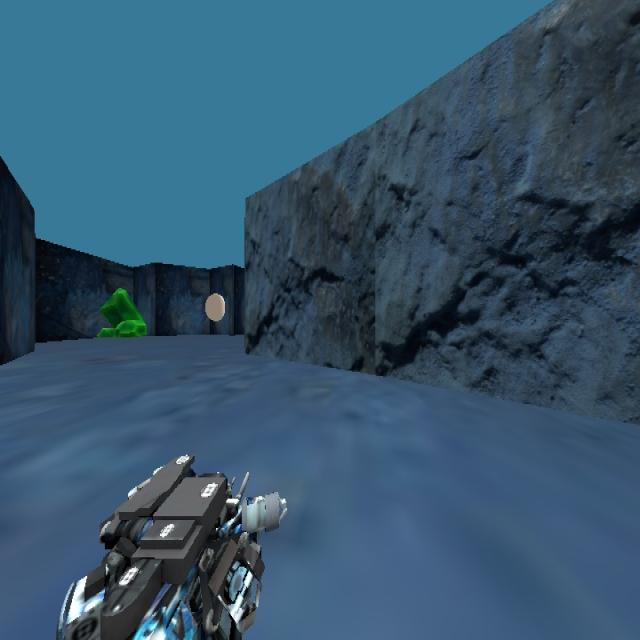Circle: (203, 292, 225, 321)
Diamon: (96, 286, 147, 338)
